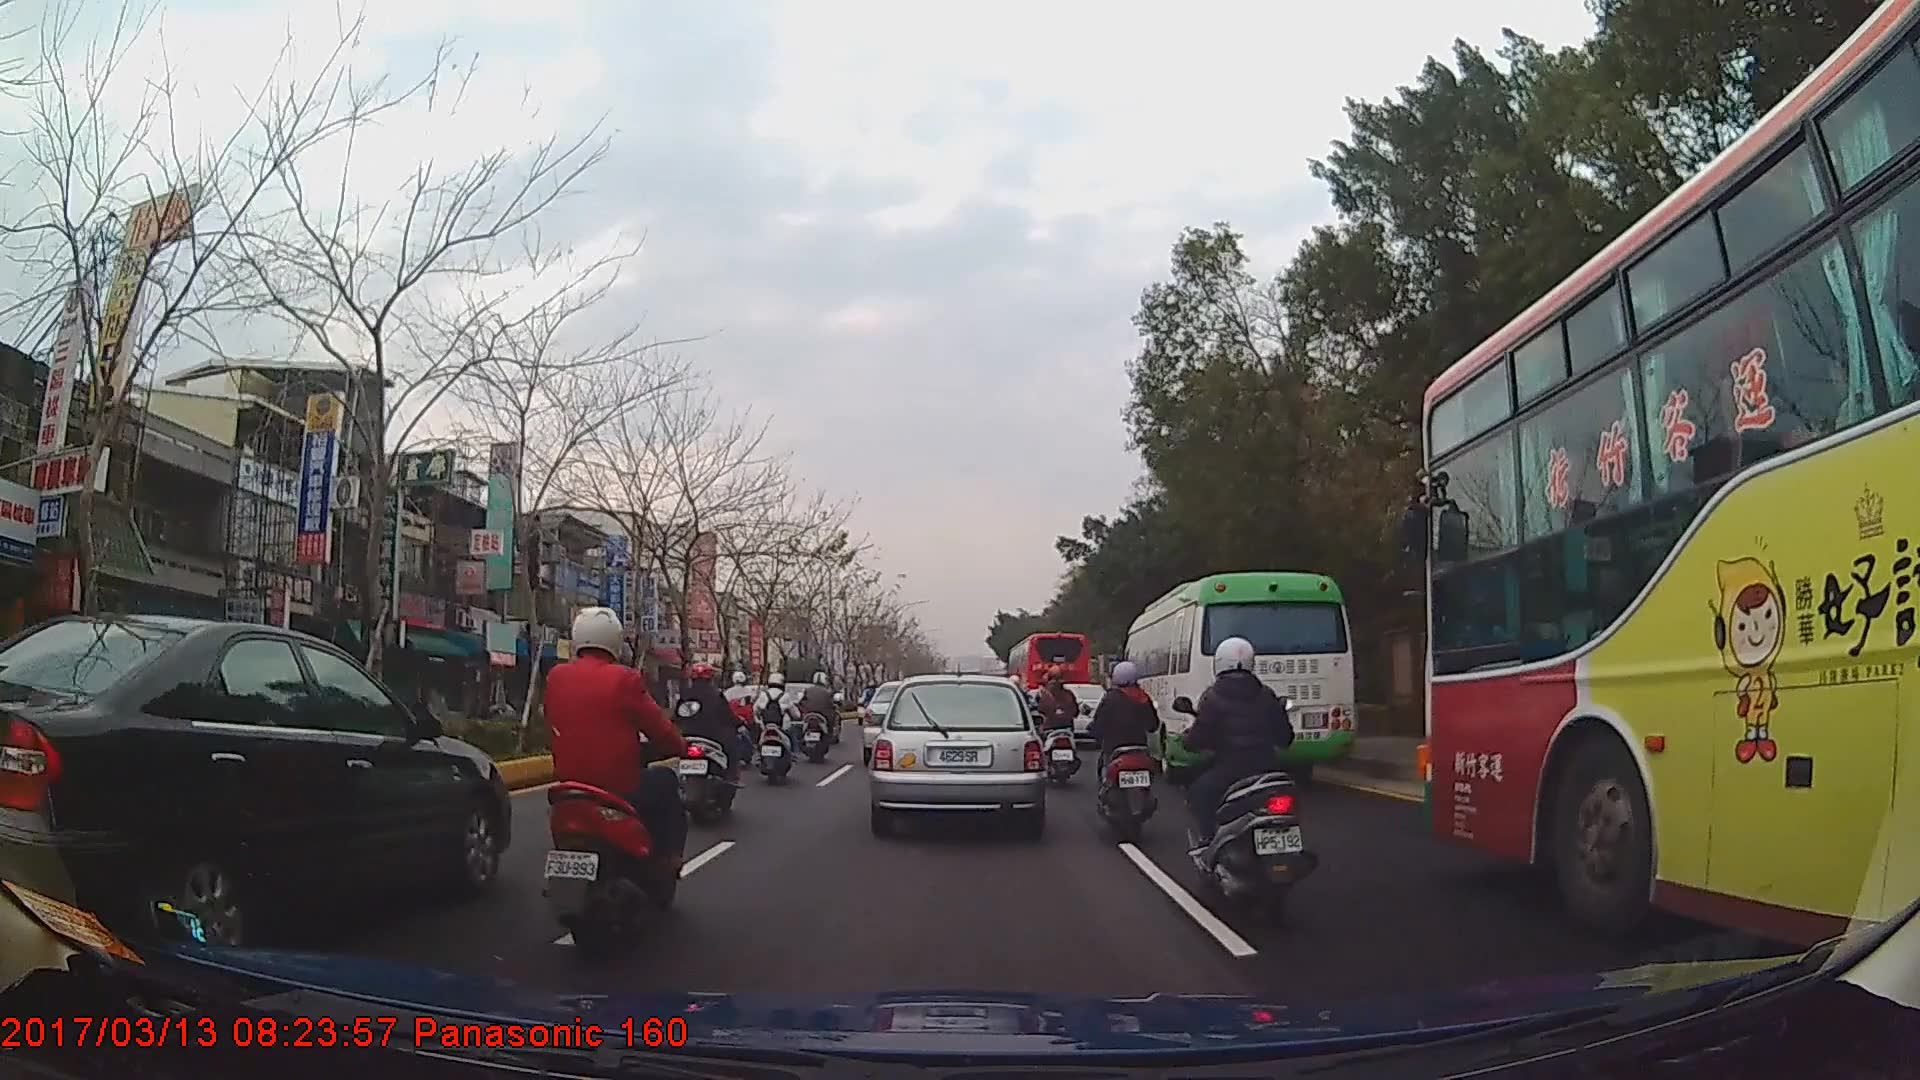rider: (543, 596, 698, 961), (1179, 640, 1321, 917), (1089, 662, 1168, 848), (669, 661, 748, 824), (1038, 661, 1083, 788), (754, 675, 804, 784), (803, 673, 845, 763), (721, 672, 763, 753), (860, 682, 881, 721)
vehicle: (1410, 0, 1920, 965), (0, 609, 510, 961), (1119, 570, 1355, 786), (869, 673, 1041, 832), (1008, 631, 1093, 729)
